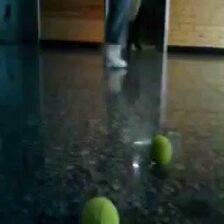tennis: (77, 196, 121, 224), (148, 134, 175, 170)
